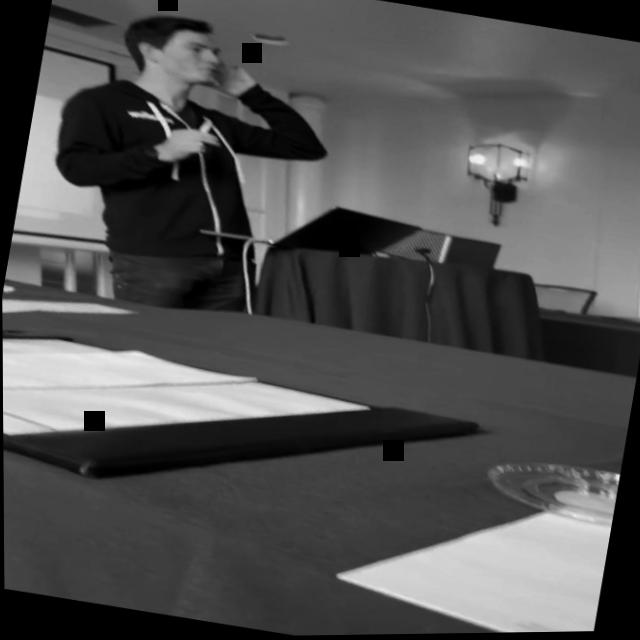NO-Mask: (158, 24, 225, 88)
